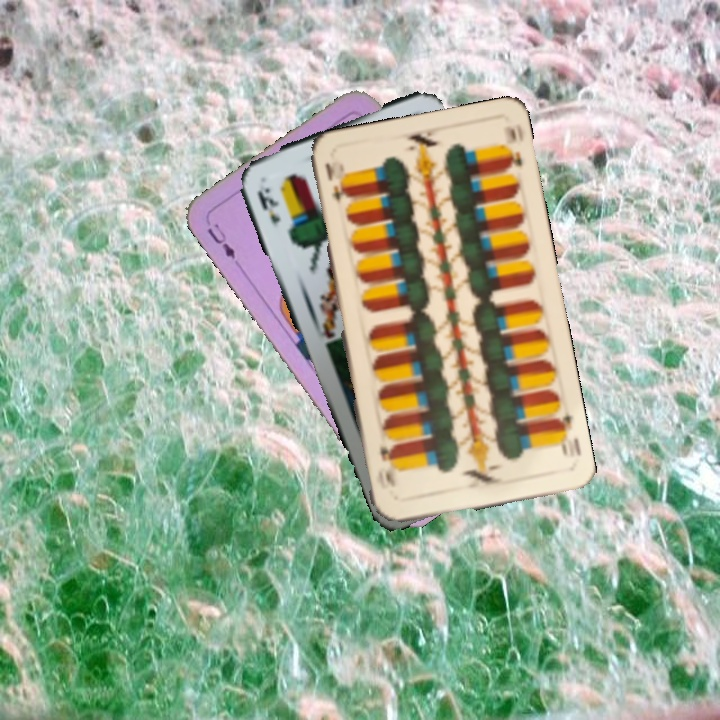E10: (550, 411, 584, 459), (321, 159, 346, 207)
EK: (253, 183, 283, 226)
EU: (203, 219, 239, 262)
